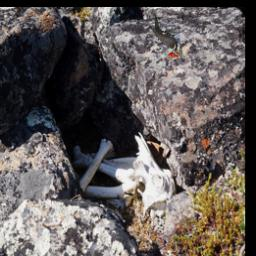Woodpecker: (149, 10, 186, 59)
